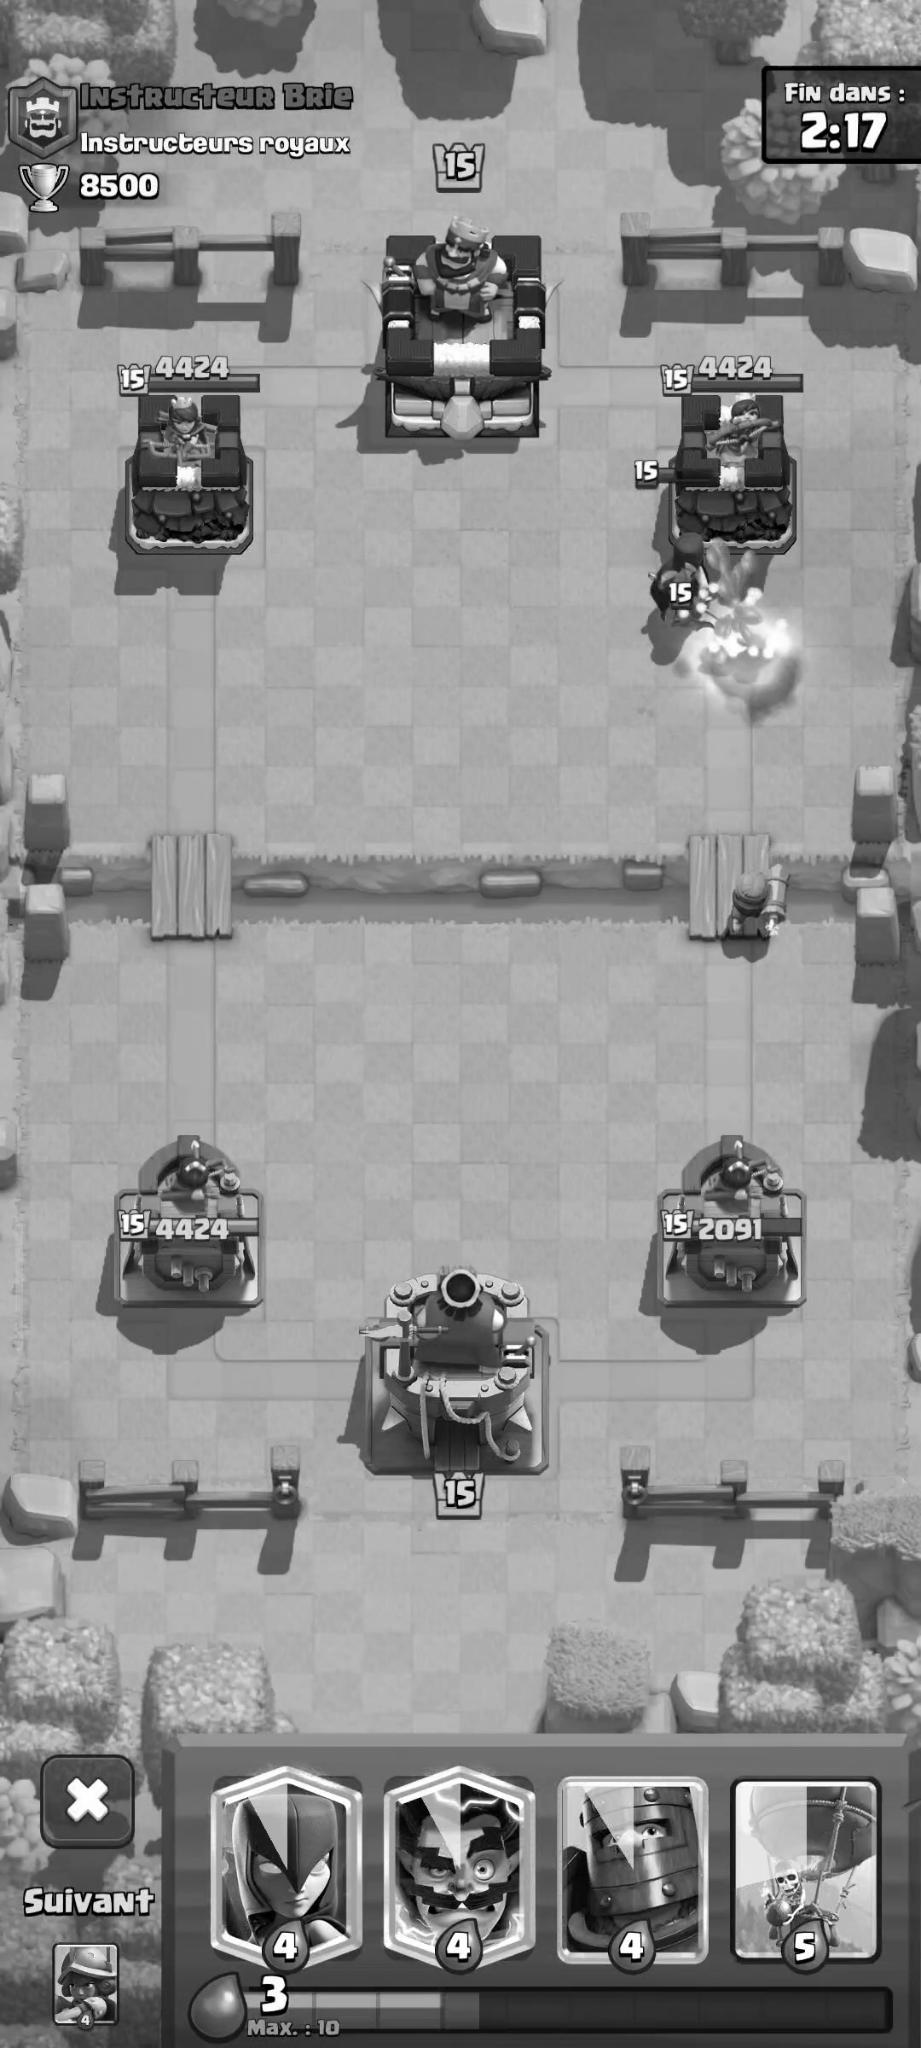bat: (657, 583, 745, 645)
